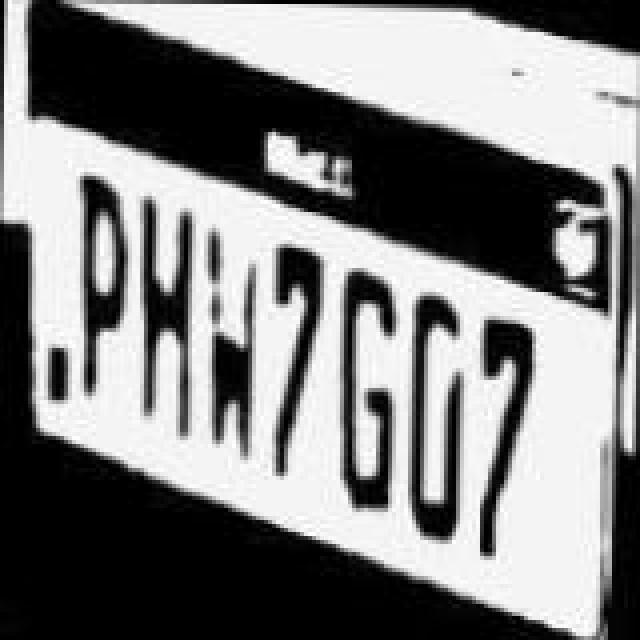7: (470, 294, 538, 566), (268, 230, 328, 498)
D: (402, 274, 470, 550)
G: (330, 246, 406, 522)
H: (134, 180, 206, 444)
P: (70, 170, 134, 410)
W: (196, 204, 264, 468)
